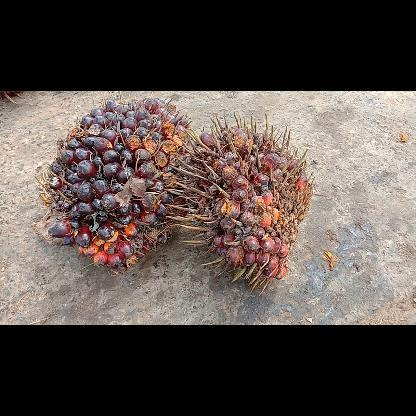Kurang masak: (34, 92, 190, 272)
TBS masak: (165, 112, 315, 292)
